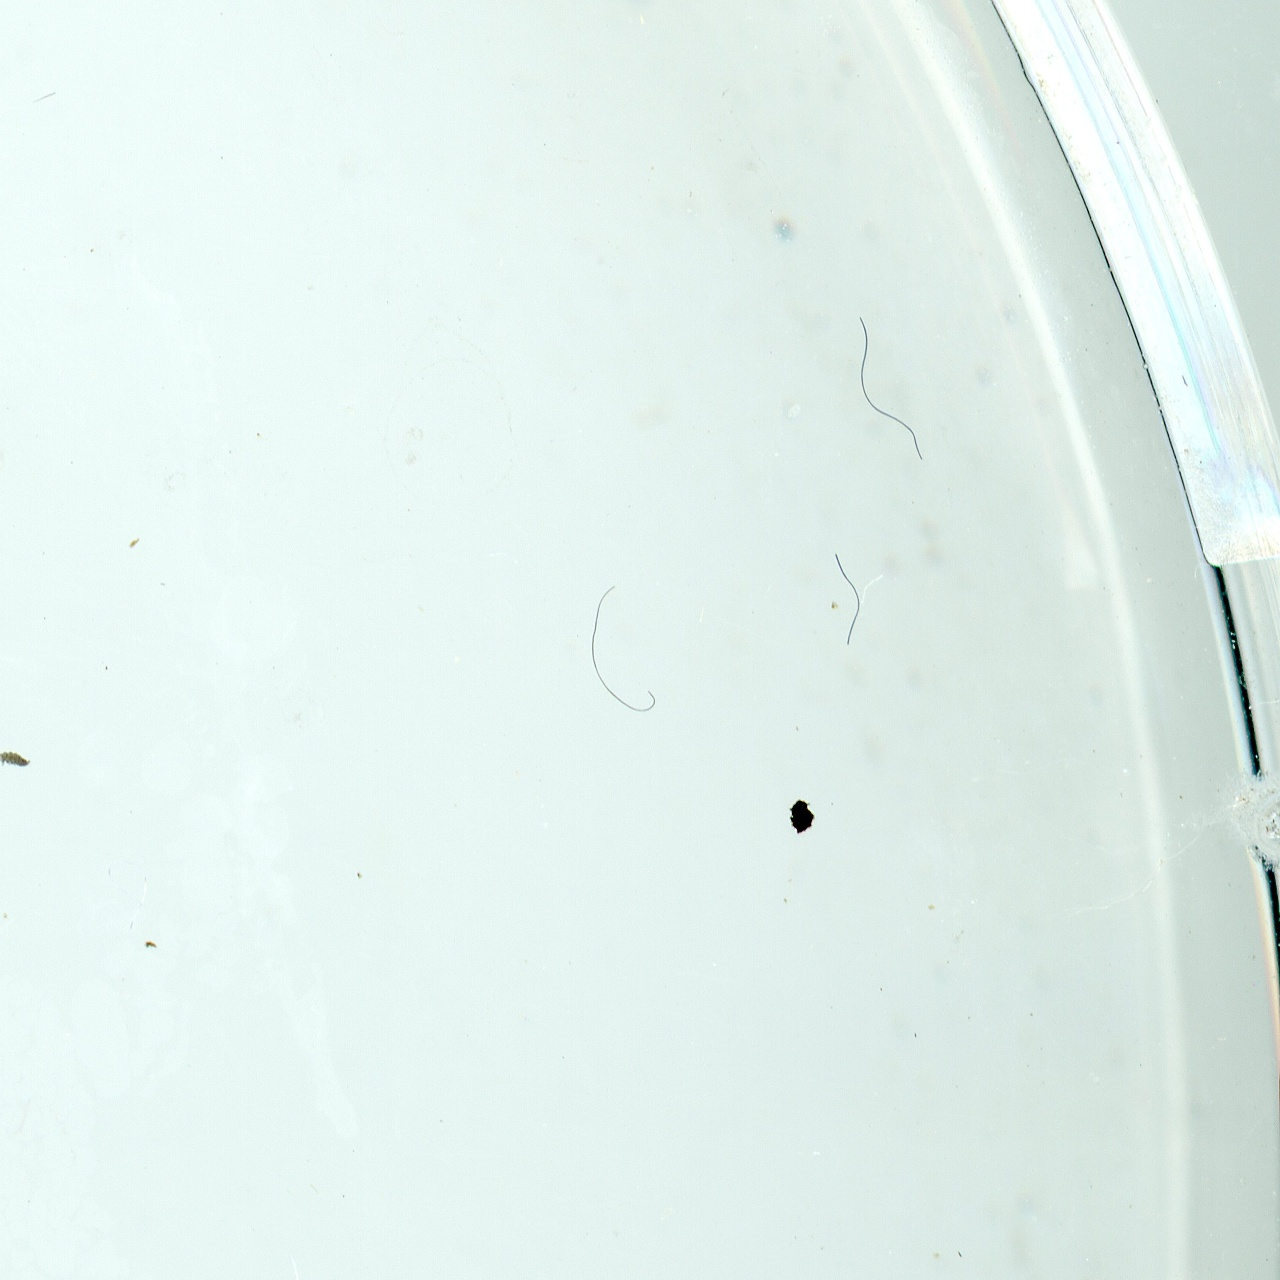arthropod: (0, 747, 32, 769)
